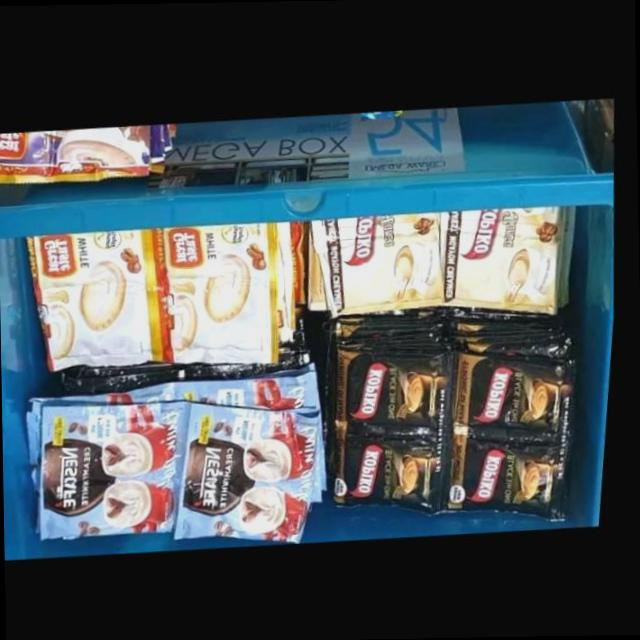goi_nhua_nho: (49, 400, 200, 539), (184, 402, 326, 539), (313, 209, 447, 312), (443, 199, 562, 311), (40, 277, 174, 372), (449, 427, 579, 518), (332, 422, 456, 513), (457, 347, 586, 432), (329, 342, 457, 425), (166, 276, 283, 363), (0, 124, 154, 181), (29, 229, 168, 288), (164, 220, 281, 278)
